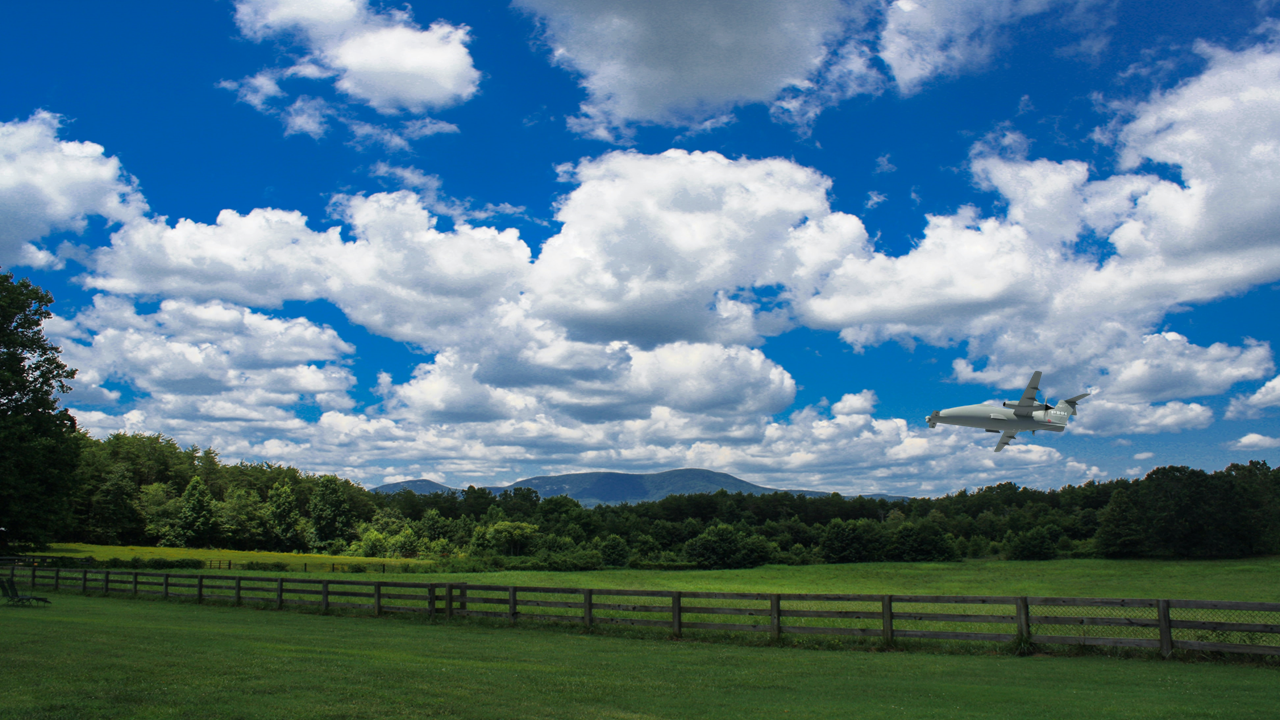military drone: (925, 370, 1090, 452)
